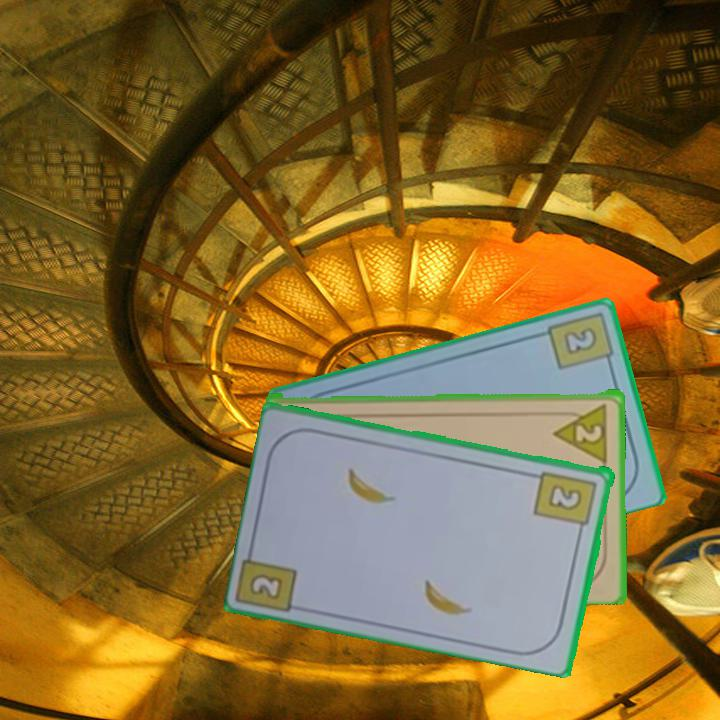2b: (532, 467, 600, 537), (544, 308, 616, 372), (246, 570, 286, 603)
2p: (551, 398, 611, 463)
